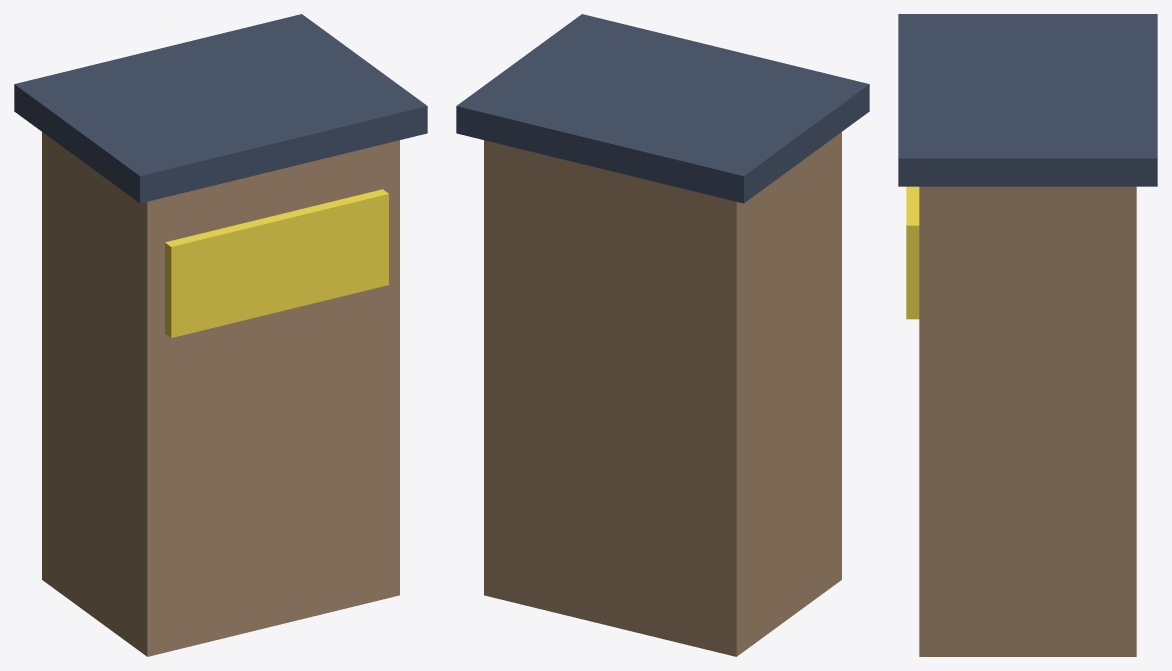
File: host_podium.glb
3 views of the same model, side by side, from view 1: azimuth 30°, elevation 25°; view 2: azimuth 150°, elevation 25°; view 3: azimuth 270°, elevation 25° (orthographic). The views are drawn at different scales.
Parts seen in each view (by area): view 1: HostPodium; view 2: HostPodium; view 3: HostPodium.
Part boxes in pixels (x1,y1,x2,y2): HostPodium: (14,14,427,656); HostPodium: (456,14,869,656); HostPodium: (898,14,1157,656).
Bounding box in the file's own units: 0.66 × 1.08 × 0.5.
